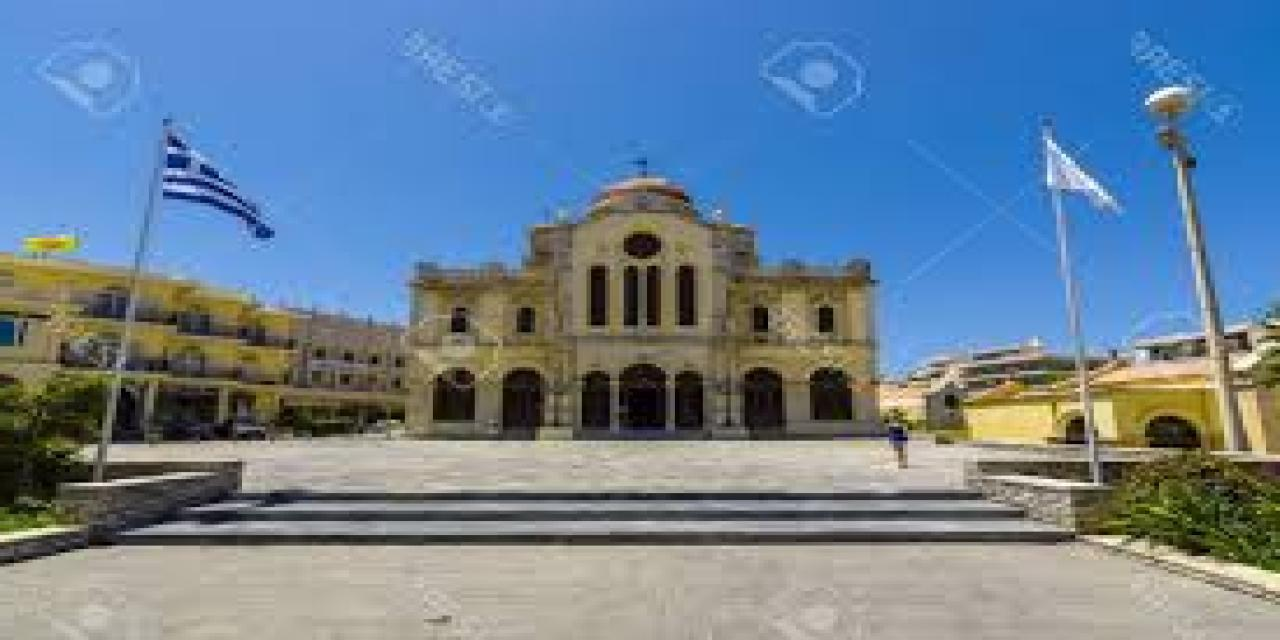Agios Minas: (397, 140, 886, 438)
